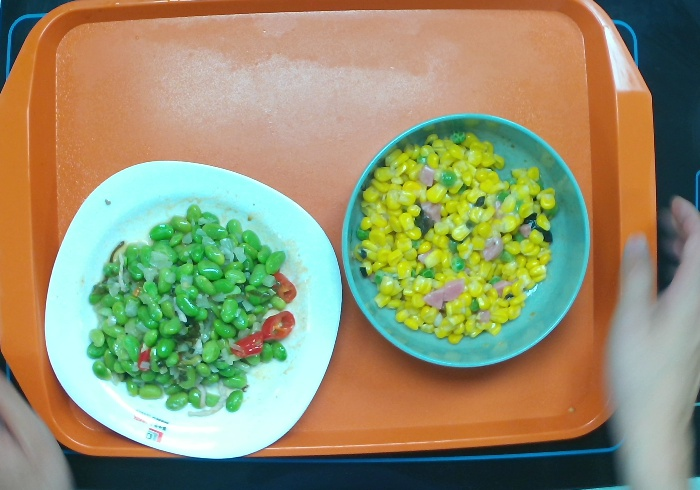ZNLD-Qing_Hua_Yuan_Wan: (338, 106, 600, 372)
ZNLD-Yuan_Jiao_Pan: (36, 156, 351, 465)
